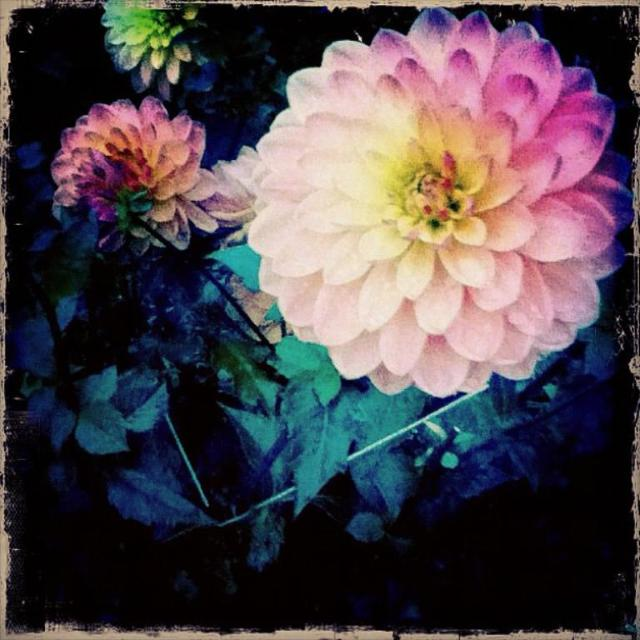Flower: (212, 14, 640, 408), (48, 89, 214, 253), (101, 1, 212, 99)
